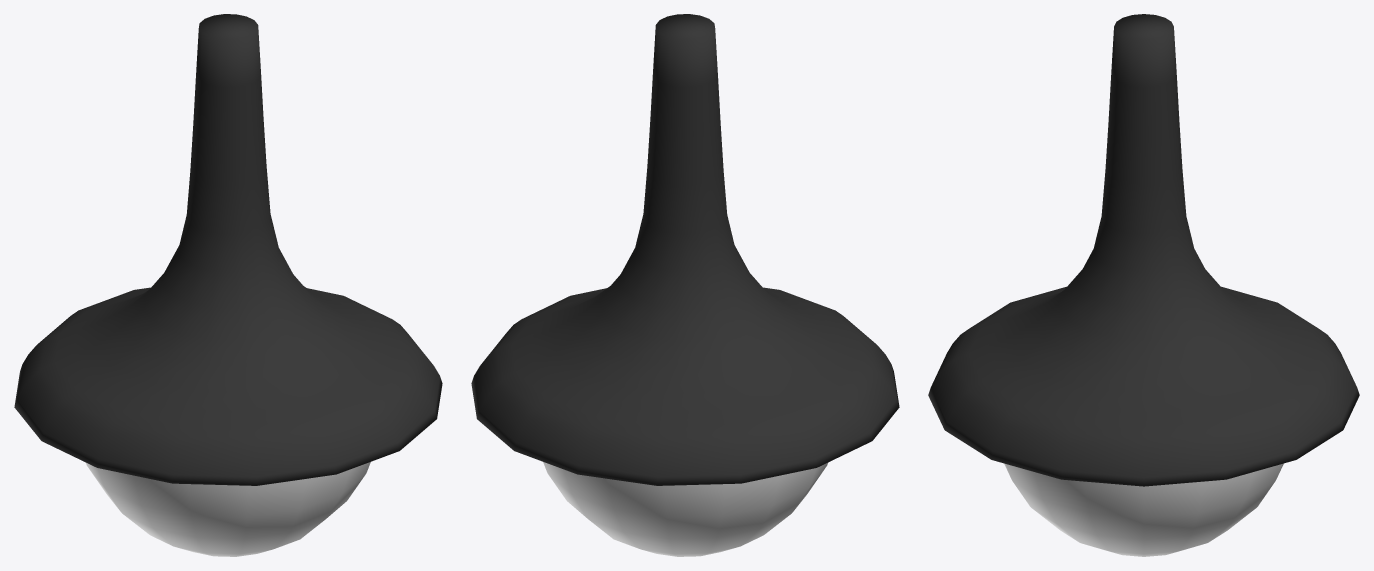
The model's file is Grosse_Glocke.glb.
The picture shows the model from 3 angles, left to right: view 1: azimuth 30°, elevation 25°; view 2: azimuth 150°, elevation 25°; view 3: azimuth 270°, elevation 25°; orthographic projection.
Visible parts, largest first — view 1: Große Glocke LED 16 Segmente, Große Glocke LED 16 Segmente Glas; view 2: Große Glocke LED 16 Segmente, Große Glocke LED 16 Segmente Glas; view 3: Große Glocke LED 16 Segmente, Große Glocke LED 16 Segmente Glas.
Boxes of the visible parts, left/top/right/bottom form: Große Glocke LED 16 Segmente: left=14, top=14, right=442, bottom=485; Große Glocke LED 16 Segmente Glas: left=85, top=462, right=370, bottom=556; Große Glocke LED 16 Segmente: left=471, top=14, right=899, bottom=485; Große Glocke LED 16 Segmente Glas: left=543, top=462, right=828, bottom=556; Große Glocke LED 16 Segmente: left=928, top=14, right=1359, bottom=486; Große Glocke LED 16 Segmente Glas: left=1004, top=463, right=1283, bottom=556.
Bounding box in the file's own units: 0.5304 × 0.6995 × 0.5304.
Materials: 6 (4 with a texture image).
